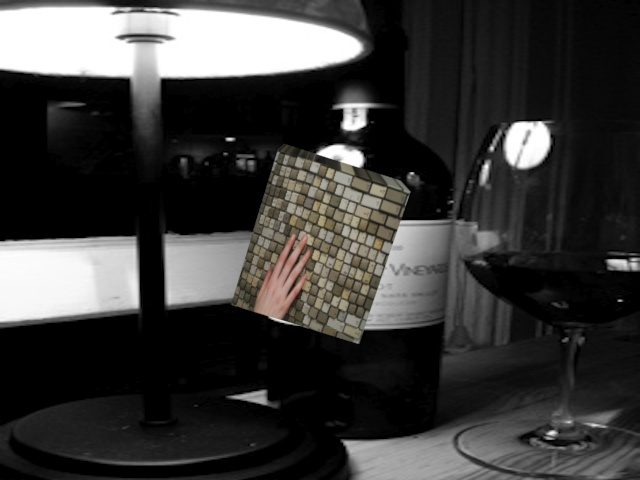file_cabinet: (224, 143, 416, 352)
